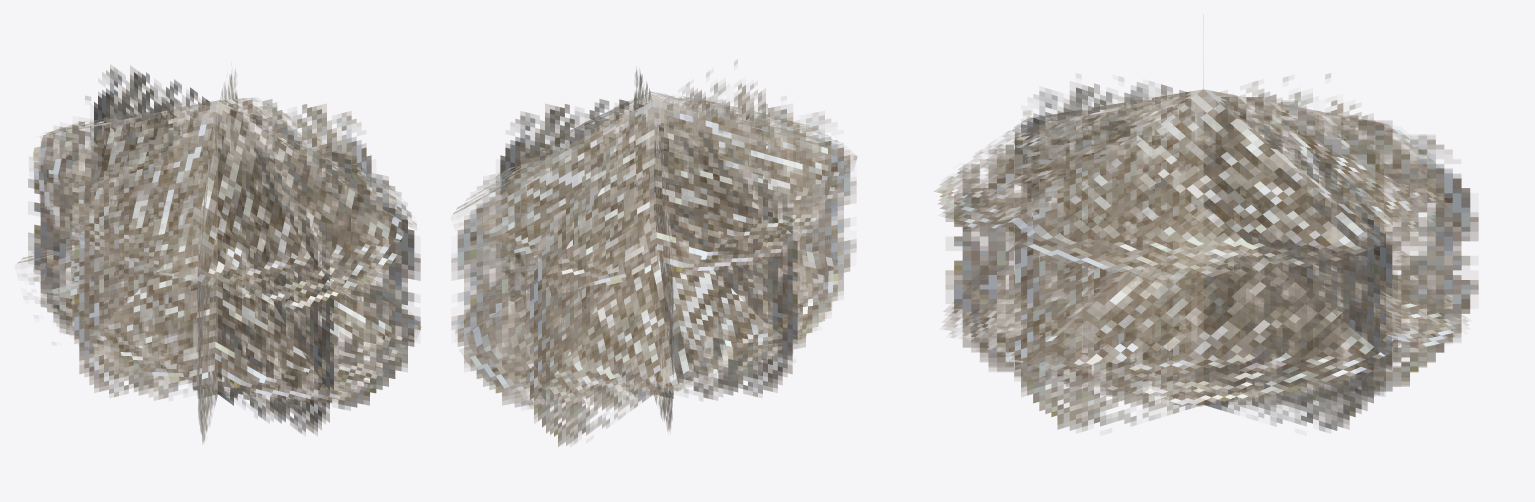
The model's file is Environment - Debris and Ruins - Rubble Mound - Debris - PMTmbWeed03.glb.
3 views of the same model, side by side, from view 1: azimuth 30°, elevation 25°; view 2: azimuth 150°, elevation 25°; view 3: azimuth 270°, elevation 25° (orthographic). The views are drawn at different scales.
Visible parts, largest first — view 1: PMTMBWEED03; view 2: PMTMBWEED03; view 3: PMTMBWEED03.
Part boxes in pixels (box(x1,y1,x2,y2)): PMTMBWEED03: box(15, 65, 421, 443); PMTMBWEED03: box(451, 60, 857, 446); PMTMBWEED03: box(934, 73, 1478, 433).
Size of the model in its own units: 9.61 by 7.38 by 13.46.
Materials: 1 (1 with a texture image).
